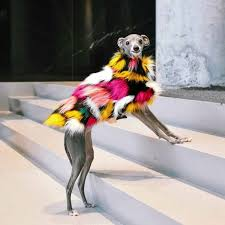dog: (110, 27, 161, 67)
